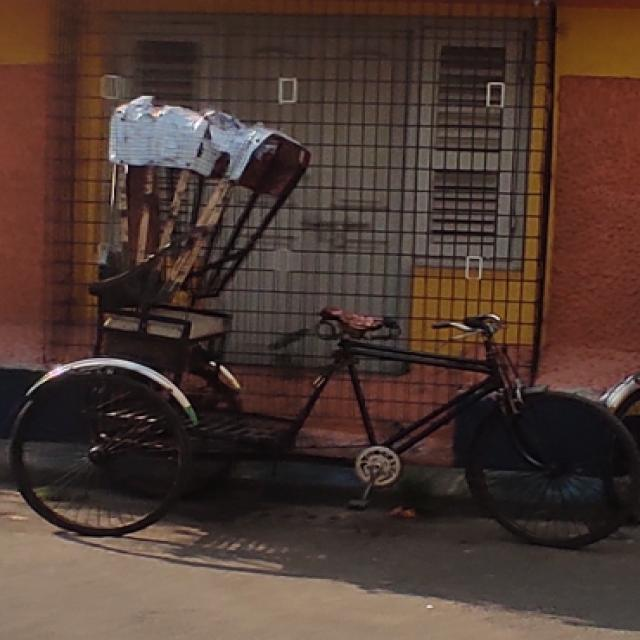rickshaw: (4, 93, 636, 582)
